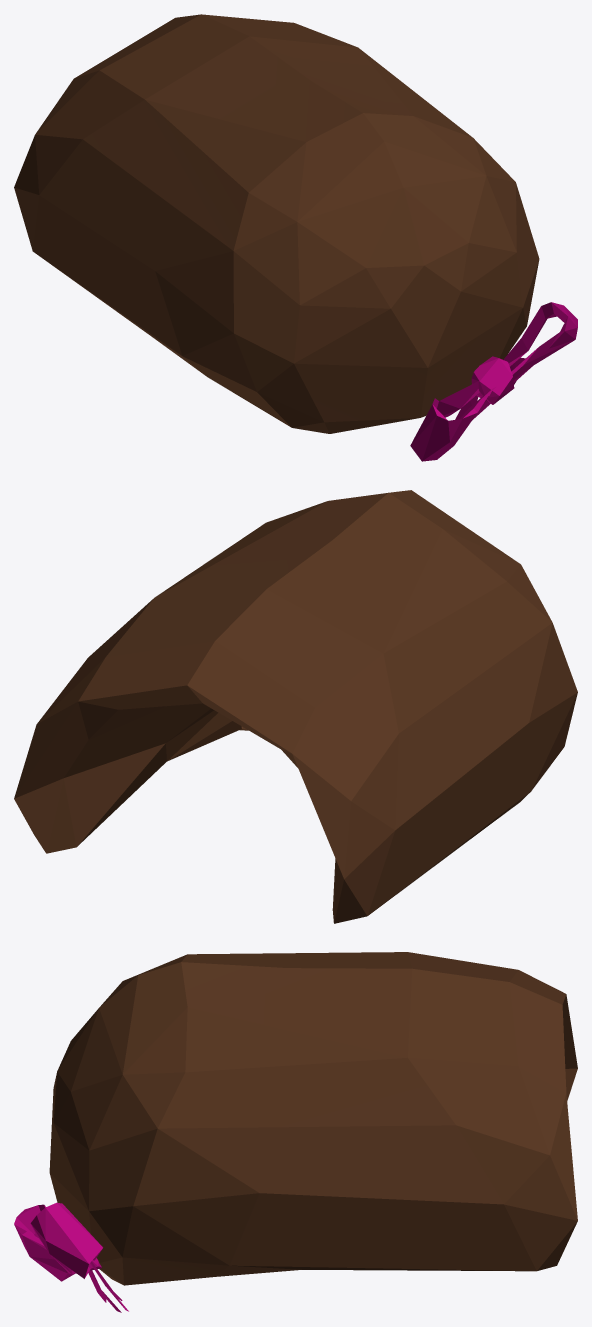
Rendered from WomanHat.001.glb.
3 renders of one model, top to bottom at view 1: azimuth 30°, elevation 25°; view 2: azimuth 150°, elevation 25°; view 3: azimuth 270°, elevation 25°, orthographic. The views are drawn at different scales.
Parts seen in each view (by area): view 1: WomanHat.001; view 2: WomanHat.001; view 3: WomanHat.001.
Boxes of the visible parts, x1=… form: WomanHat.001: x1=14, y1=14, x2=577, y2=461; WomanHat.001: x1=14, y1=490, x2=577, y2=923; WomanHat.001: x1=14, y1=952, x2=577, y2=1312.
Size of the model in its own units: 0.2389 by 0.2134 by 0.3389.
1 material, 1 textured.
